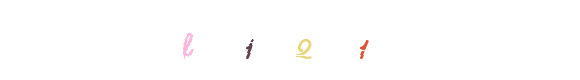1: (250, 0, 330, 80), (267, 0, 347, 80)
2: (265, 0, 345, 80)
F: (160, 0, 240, 80)
